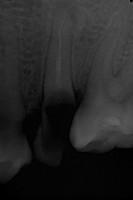Furcation Involvement: (55, 0, 81, 24)
